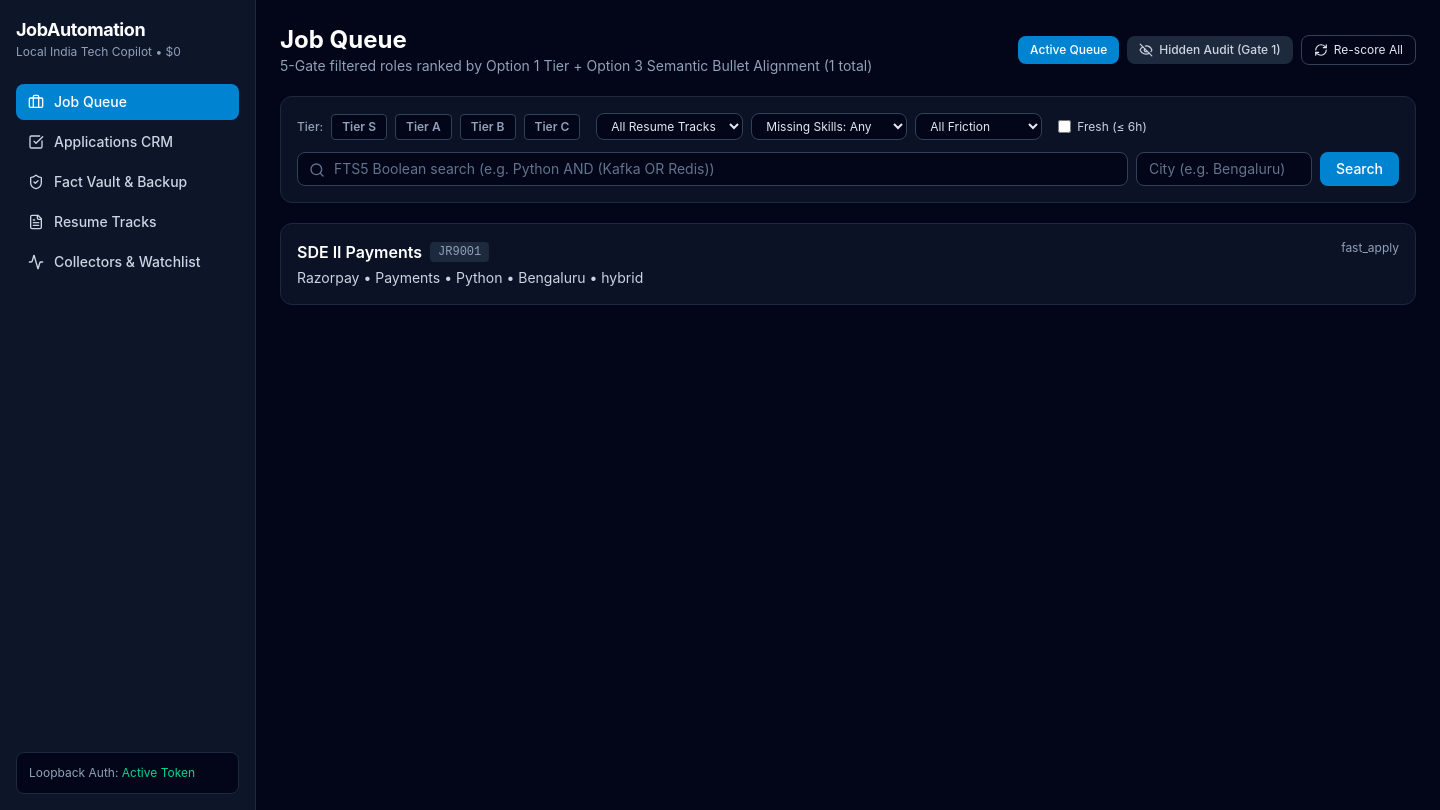
Test case: JobAutomation Dashboard (Cycle 5) › opens JobDetailDrawer with Option 1+3 Proof Table, Cross-Resume Alert, and Sibling JD Diff
Click the heading "SDE II Payments": (360, 252) [297,240,422,264]
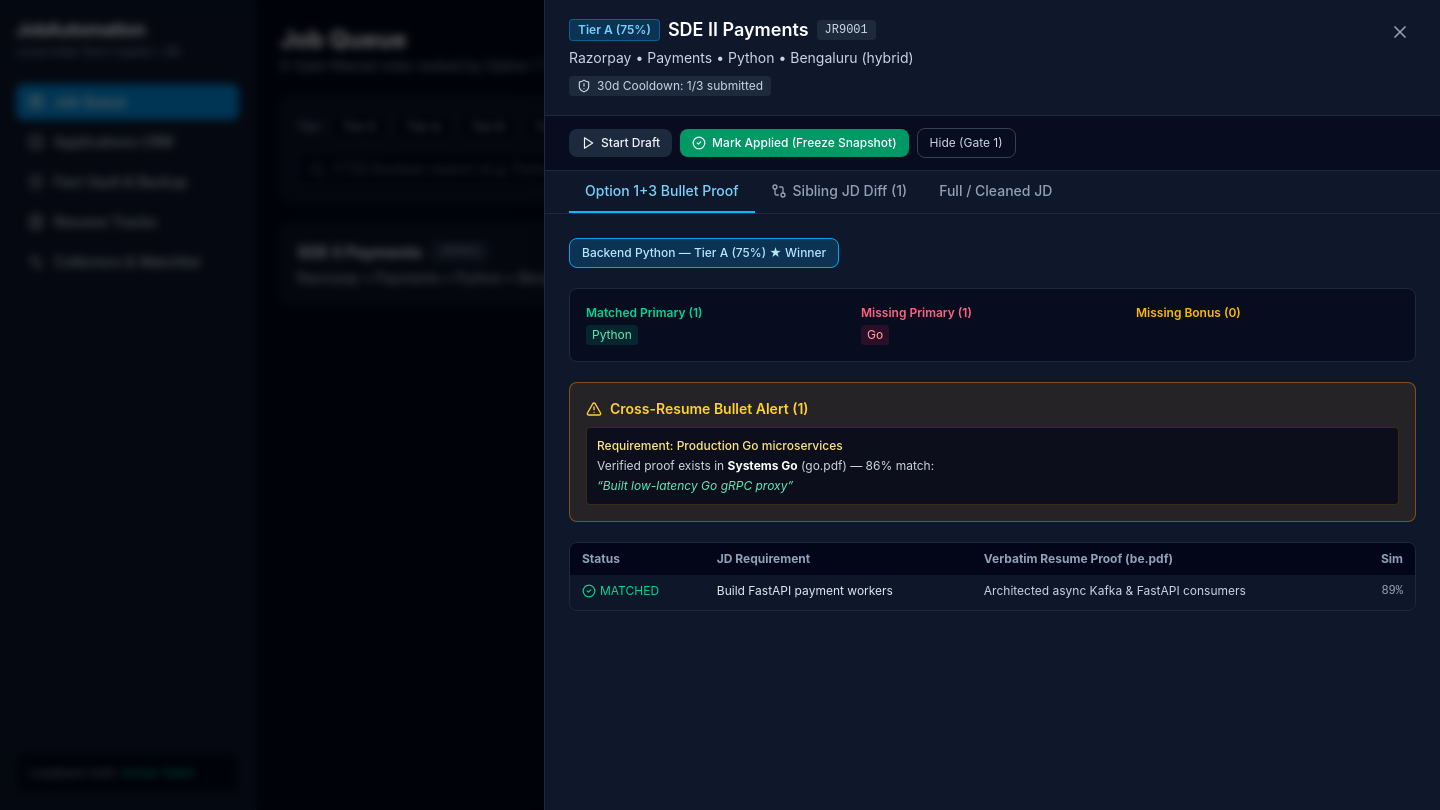
Result: the text "Architected async Kafka & FastAPI consumers" is shown at [972,575,1354,610]
Result: the text "“Built low-latency Go gRPC proxy”" is shown at [597,478,793,493]
Result: the text "30d Cooldown: 1/3 submitted" is shown at [597,78,763,94]
Click the button "Sibling JD Diff (1)": (839, 192) [755,171,923,213]
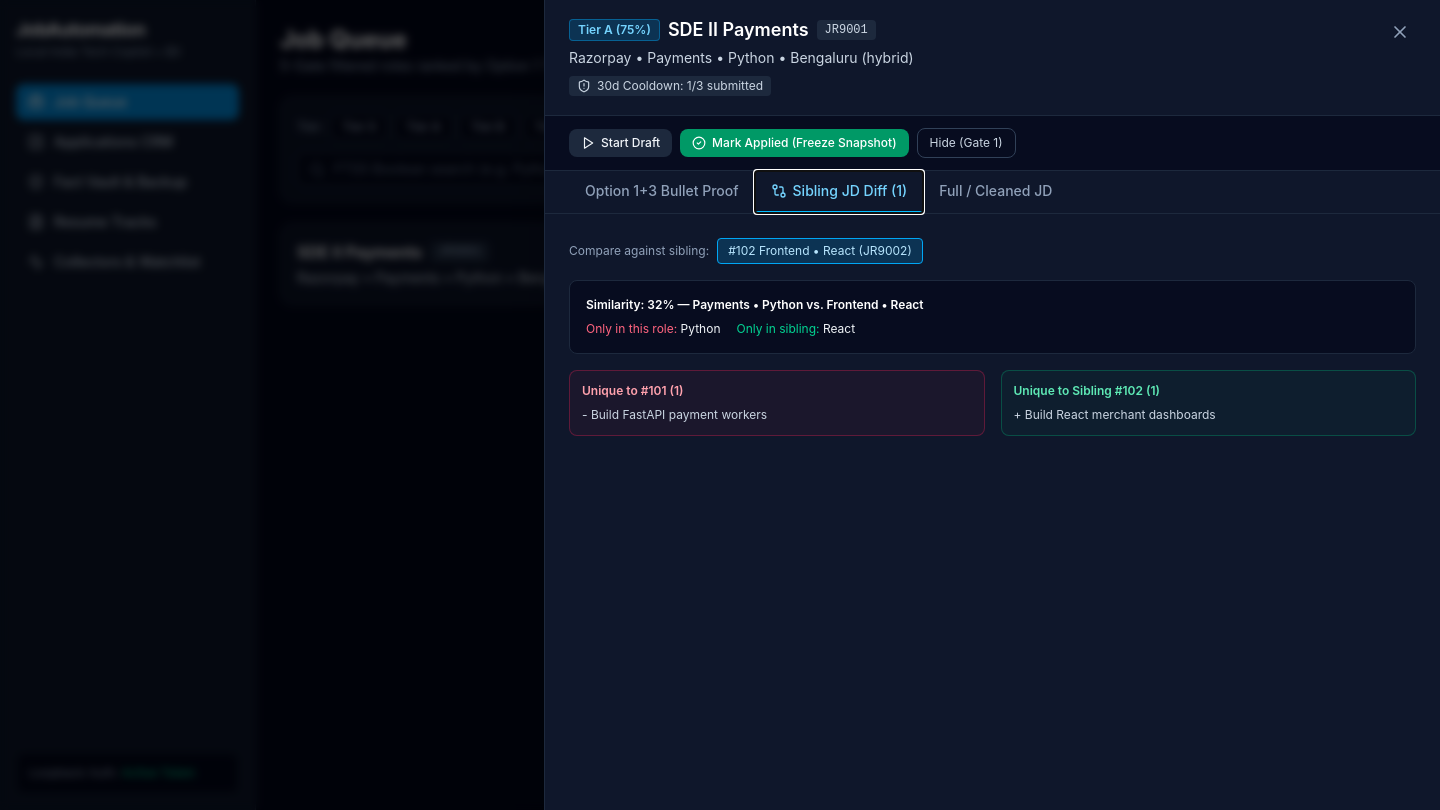
Result: the list item "+ Build React merchant dashboards" is shown at [1014,407,1216,422]
